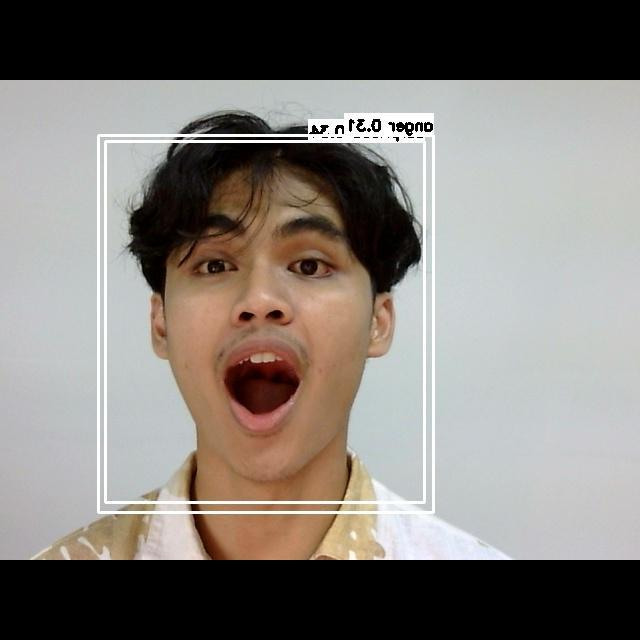Surprised: (151, 172, 393, 459)
